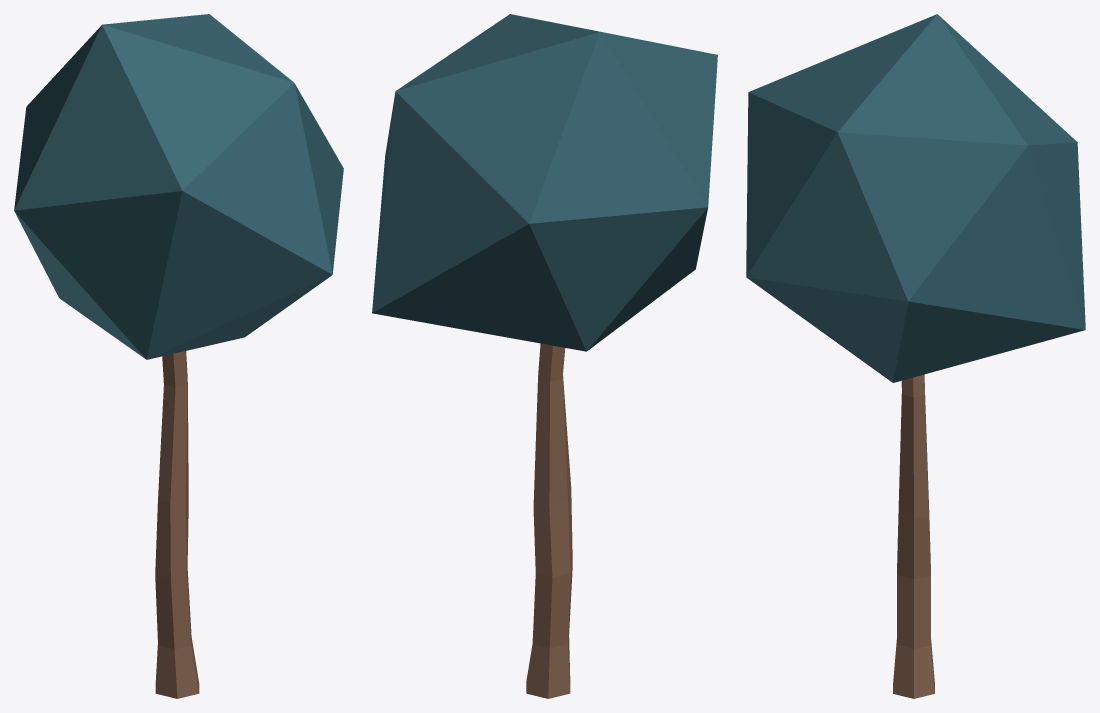
File: LowPolyTree2.fbx
3 renders of one model, left to right at view 1: azimuth 30°, elevation 25°; view 2: azimuth 150°, elevation 25°; view 3: azimuth 270°, elevation 25°, orthographic. The views are drawn at different scales.
Parts seen in each view (by area): view 1: Leaves2, Trunk2; view 2: Leaves2, Trunk2; view 3: Leaves2, Trunk2.
Part boxes in pixels (bbox=[...]): Leaves2: bbox=[14, 14, 343, 359]; Trunk2: bbox=[155, 351, 199, 698]; Leaves2: bbox=[372, 14, 717, 351]; Trunk2: bbox=[526, 343, 572, 698]; Leaves2: bbox=[746, 14, 1085, 382]; Trunk2: bbox=[893, 374, 934, 698].
Size of the model in its own units: 1009 by 1995 by 952.
